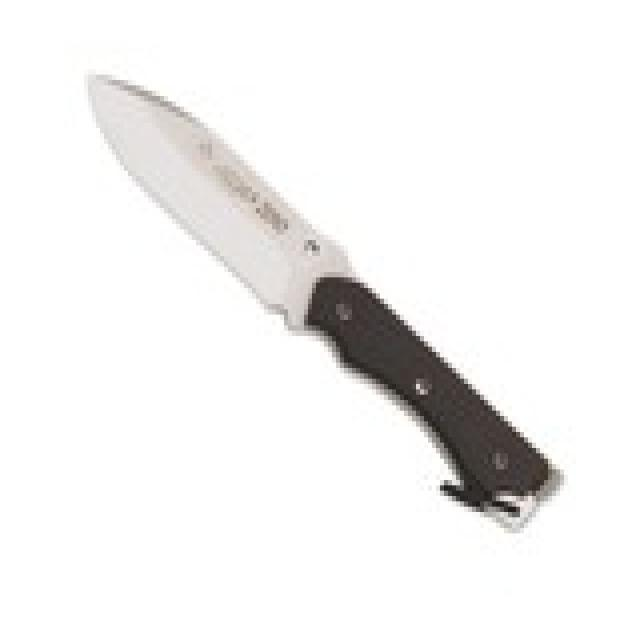Knife: (80, 42, 560, 526)
